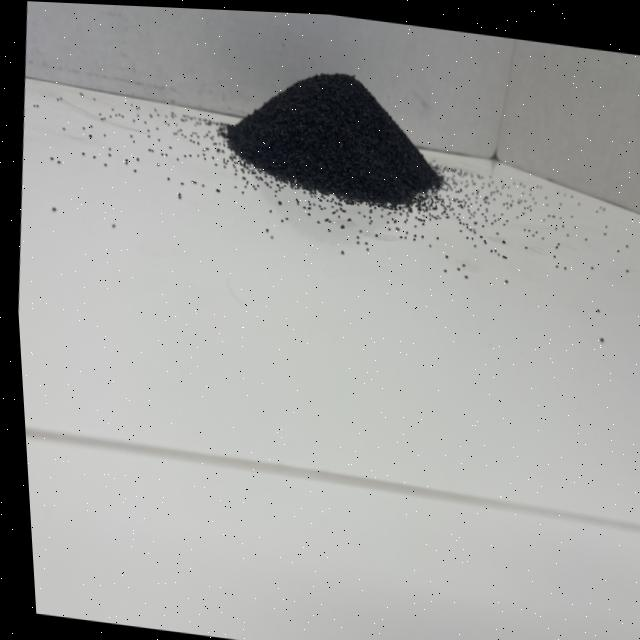Poppy Seeds: (208, 40, 476, 244)
